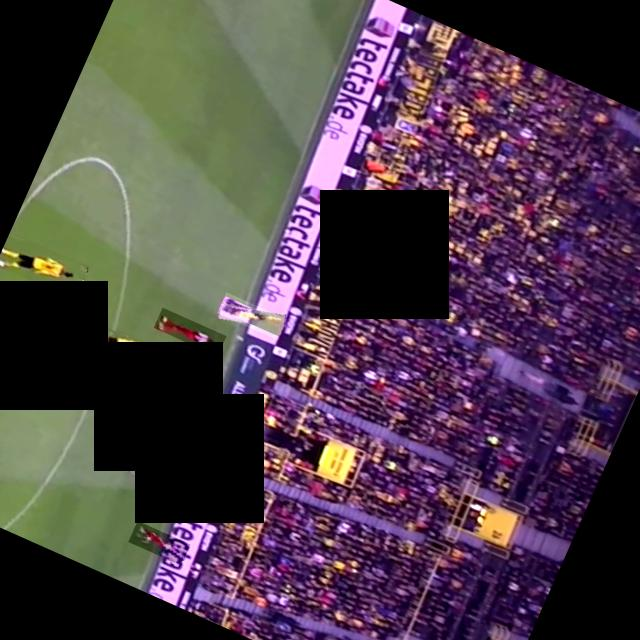ball: (190, 388, 208, 408)
soccer-player: (0, 231, 89, 300), (71, 314, 162, 374), (152, 307, 225, 356), (216, 292, 286, 340), (128, 429, 196, 476), (122, 451, 190, 497), (173, 421, 229, 476), (128, 520, 190, 566)
